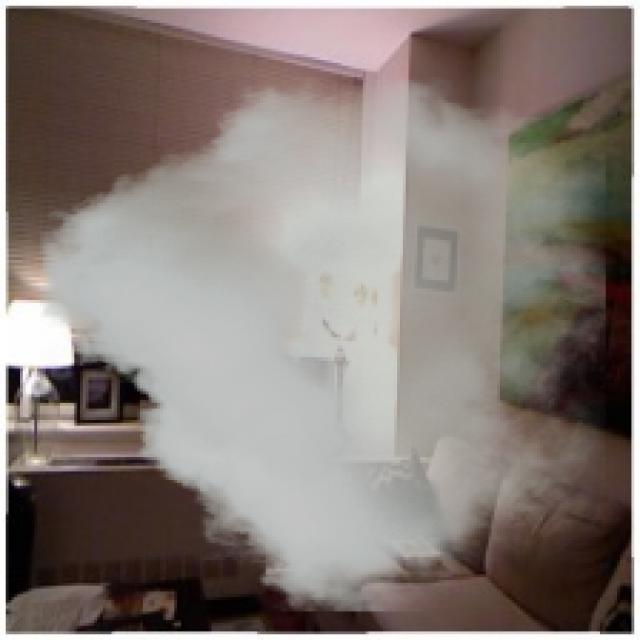smoke: (40, 77, 606, 612)
